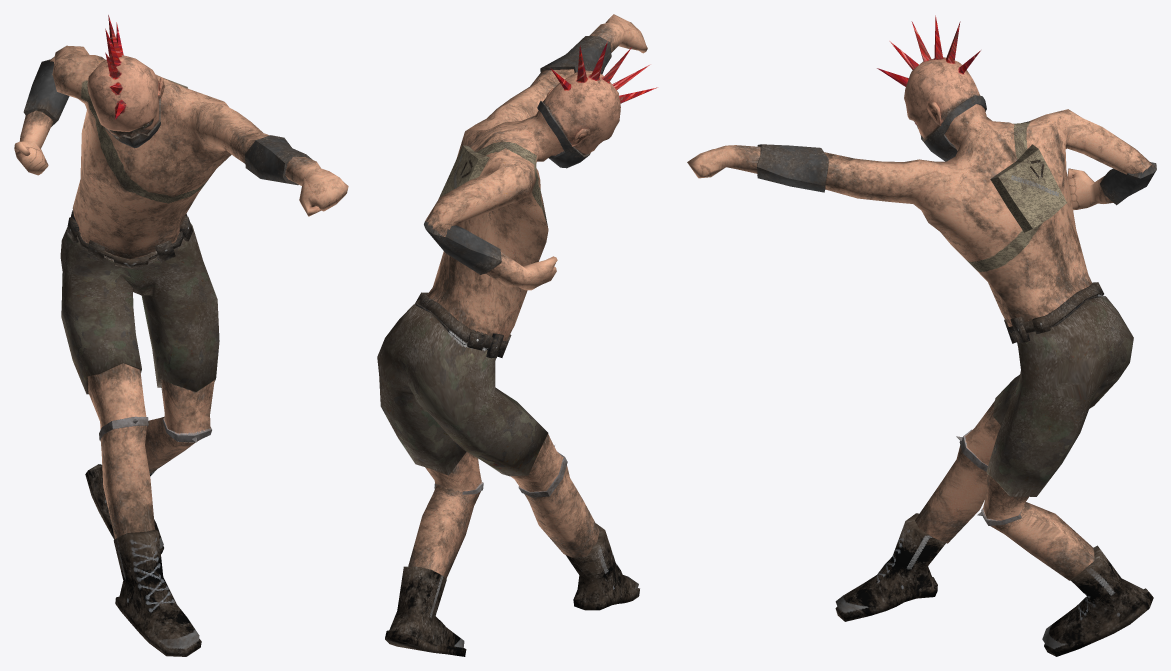
Rendered from Anim_ataque_d3_npc2.0031.obj.
The picture shows the model from 3 angles, left to right: view 1: azimuth 30°, elevation 25°; view 2: azimuth 150°, elevation 25°; view 3: azimuth 270°, elevation 25°; orthographic projection. The views are drawn at different scales.
Visible parts, largest first — view 1: polySurface1; view 2: polySurface1; view 3: polySurface1.
Part boxes in pixels (bbox=[...]): polySurface1: bbox=[14, 15, 348, 656]; polySurface1: bbox=[377, 14, 657, 656]; polySurface1: bbox=[687, 15, 1156, 656].
Bounding box in the file's own units: 2.8 × 8.87 × 6.4.
